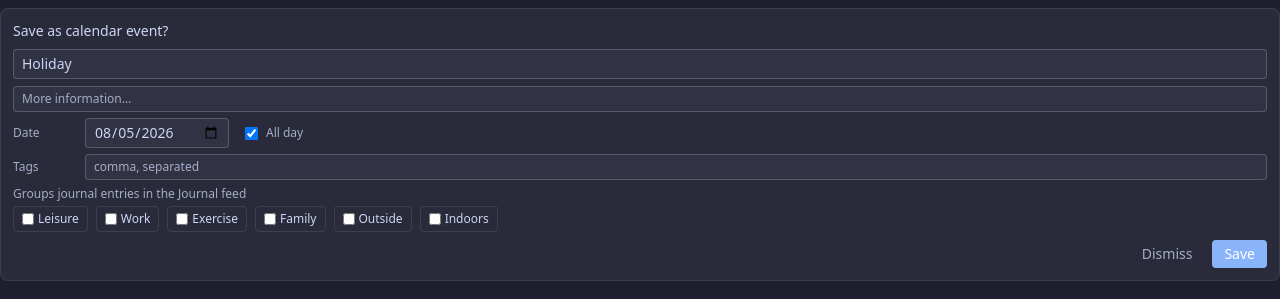
Test: pending cards › hides the clocks on an all-day event, which means the whole day
Check: the text "From" is not shown
Click the checkbox labelled "All day".
click(252, 133)  # box [245,126,258,140]
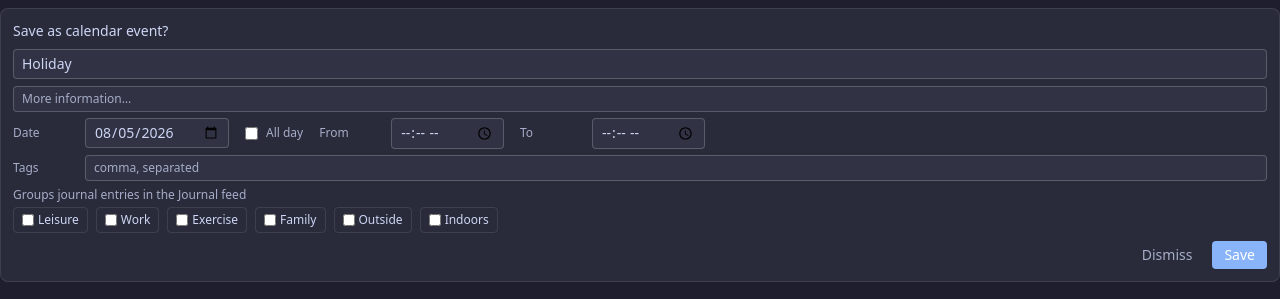
Check: the text "From" is shown, box [319,124,349,141]
